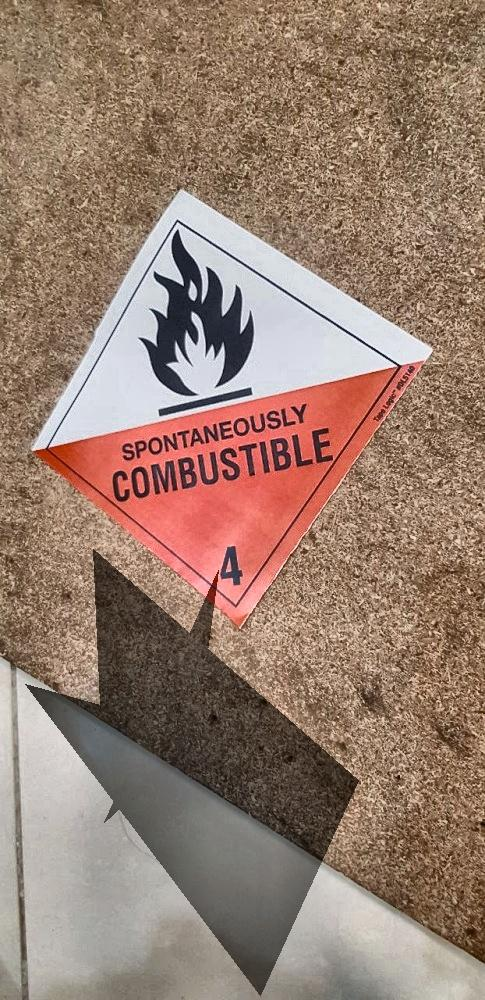spontaneously-combustible: (32, 189, 432, 629)
